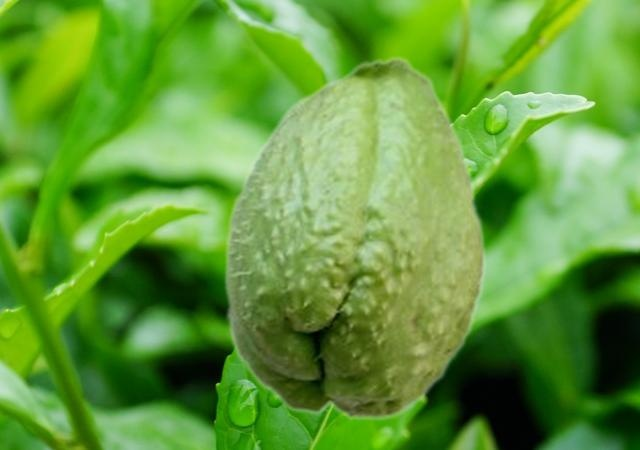sayote: (223, 54, 487, 421)
